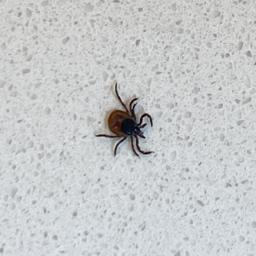Ixodes scapularis: (95, 83, 157, 157)
